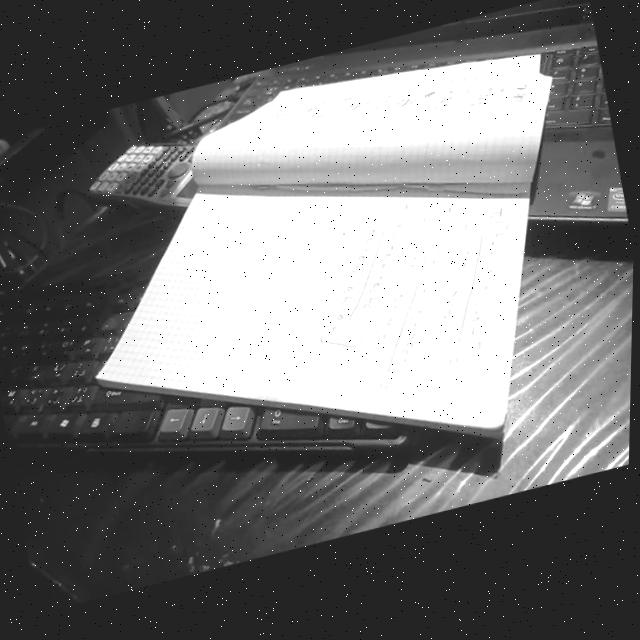document: (96, 55, 551, 437)
